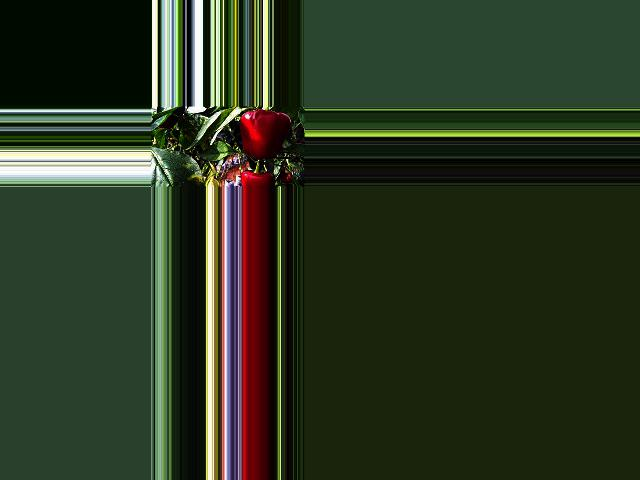bell_pepper: (236, 166, 276, 187)
